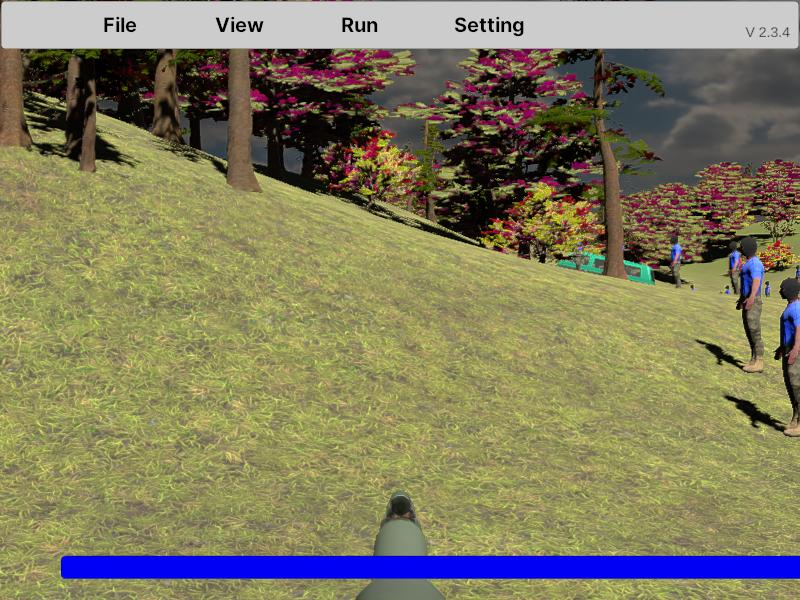Human: (775, 279, 800, 439), (738, 238, 765, 373), (670, 235, 683, 289)
